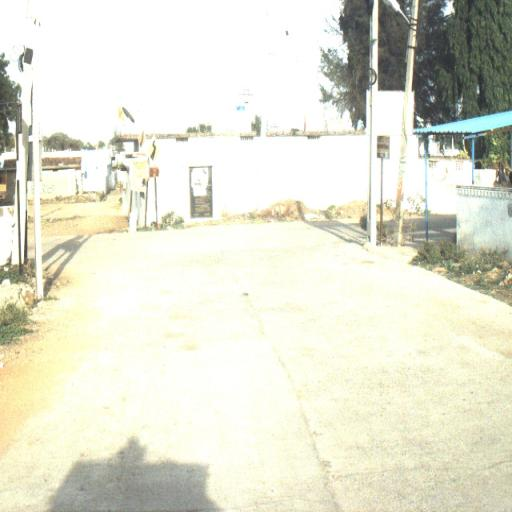street_light_0: (382, 0, 418, 62)
